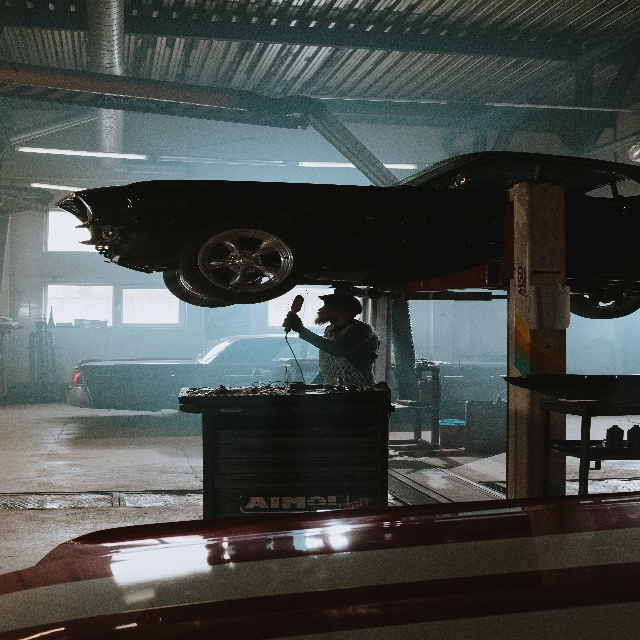Guantes: (282, 311, 304, 333)
